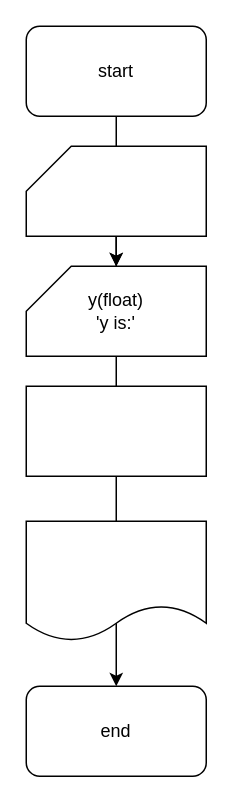
Some shapes in this 233 by 803 pixel diagram are drawn without their labels. The shapes that lost their labels are listed below. From the top down, each one's centre as x and y in pixels, then its label:
At pixel 115 190: "x(float) 'x is:'".
At pixel 115 430: "diff(float) x-y".
